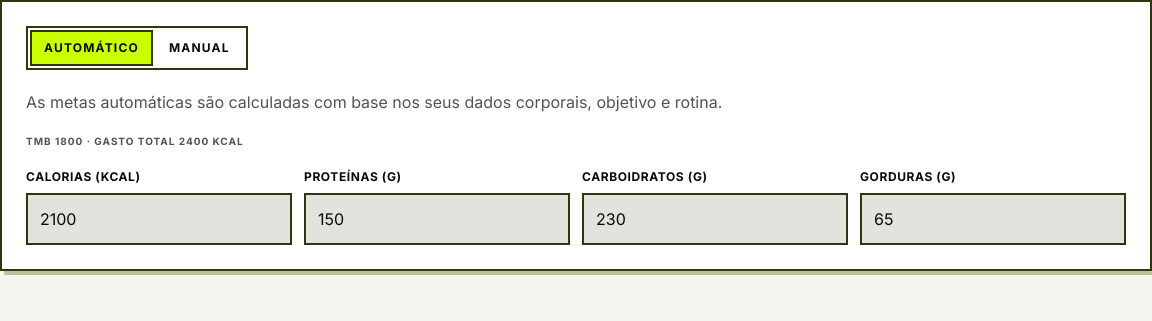
Test case: Separação das tarefas de perfil e configurações › não salva nem exibe mensagem ao alternar para manual e voltar para o automático quando o modo já salvo for auto
Expected: the button "aplicar metas" is not shown
Alterna para manual sem salvar
Click the button "MANUAL" at (199, 48), box x1=155 y1=30 x2=244 y2=66
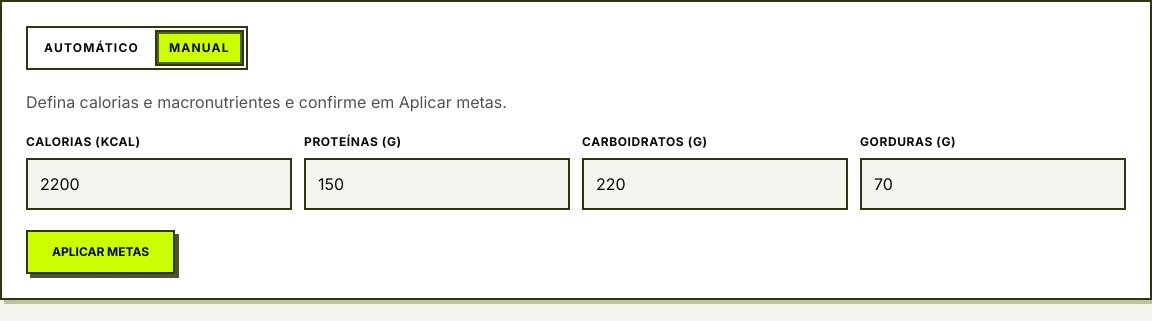
Expected: the button "APLICAR METAS" is shown, x1=26 y1=230 x2=175 y2=274
Retorna para automático
Click the button "AUTOMÁTICO" at (92, 48), box x1=30 y1=30 x2=153 y2=66
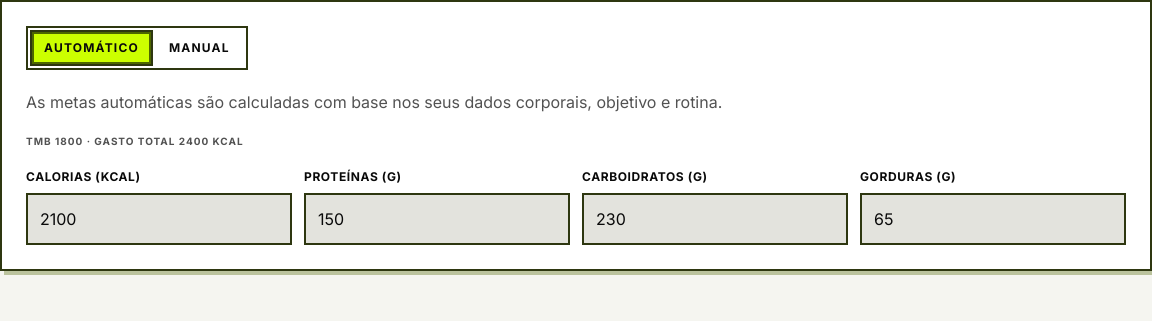
Expected: the number field labelled "CALORIAS (KCAL)" holds "2100", x1=26 y1=193 x2=292 y2=245
Expected: the text "Aplicar metas" is gone
